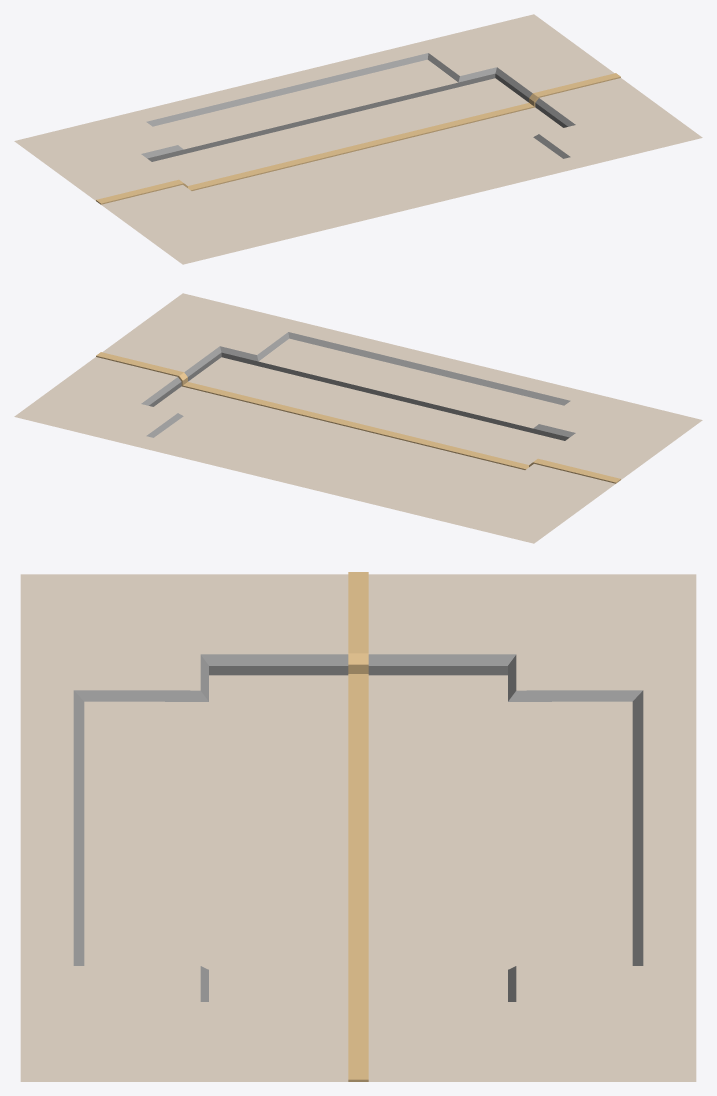
The model's file is board.gltf.
The picture shows the model from 3 angles, top to bottom: view 1: azimuth 30°, elevation 25°; view 2: azimuth 150°, elevation 25°; view 3: azimuth 270°, elevation 25°; orthographic projection. The views are drawn at different scales.
Parts seen in each view (by area): view 1: board; view 2: board; view 3: board.
Boxes of the visible parts, <box> form: board: <box>14,14,702,264</box>; board: <box>14,293,702,543</box>; board: <box>20,572,696,1081</box>.
Bounding box in the file's own units: 14.4 × 0.2591 × 8.1.
